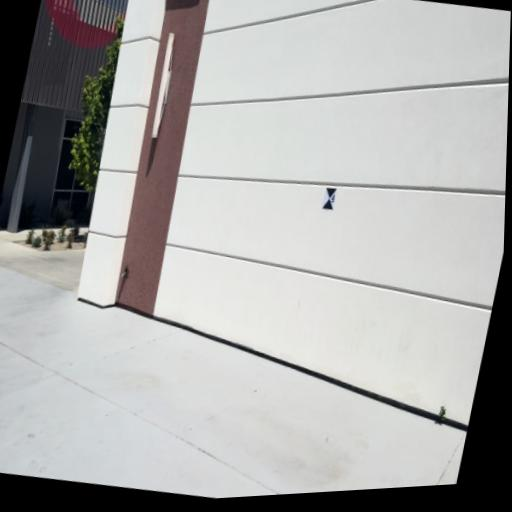target4: (321, 187, 337, 210)
